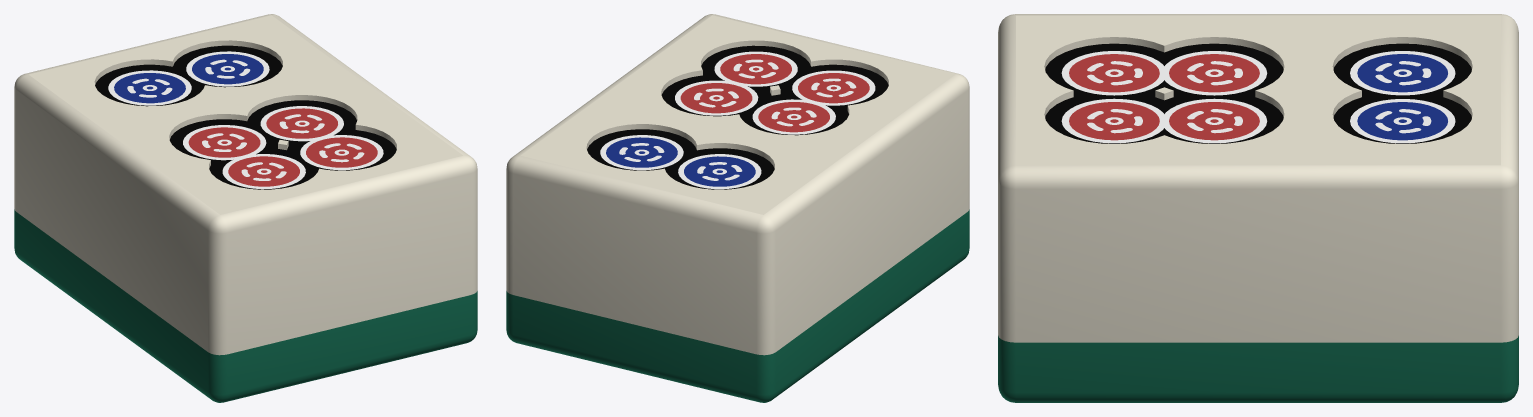
File: Pin6.glb
3 views of the same model, side by side, from view 1: azimuth 30°, elevation 25°; view 2: azimuth 150°, elevation 25°; view 3: azimuth 270°, elevation 25° (orthographic). The views are drawn at different scales.
Parts seen in each view (by area): view 1: Pin6_body, Pin6_inset; view 2: Pin6_body, Pin6_inset; view 3: Pin6_body, Pin6_inset.
Part boxes in pixels (<box>): Pin6_body: <box>14,14,477,402</box>; Pin6_inset: <box>95,45,396,189</box>; Pin6_body: <box>506,14,969,402</box>; Pin6_inset: <box>587,45,888,189</box>; Pin6_body: <box>998,14,1518,402</box>; Pin6_inset: <box>1045,43,1471,143</box>.
Bounding box in the file's own units: 0.024 × 0.016 × 0.032.
